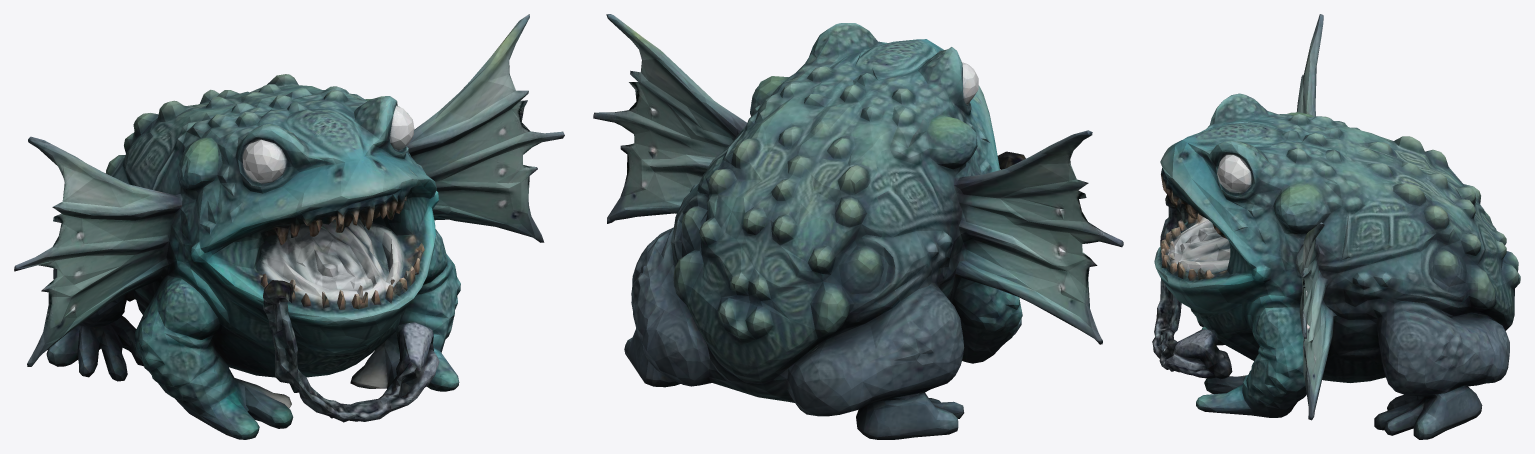
Rendered from mawdeep__maelstromLeviathan.glb.
3 views of the same model, side by side, from view 1: azimuth 30°, elevation 25°; view 2: azimuth 150°, elevation 25°; view 3: azimuth 270°, elevation 25° (orthographic). The views are drawn at different scales.
Parts seen in each view (by area): view 1: world; view 2: world; view 3: world.
Part boxes in pixels (left/top/right/bottom): world: left=14, top=14, right=564, bottom=439; world: left=593, top=14, right=1123, bottom=439; world: left=1152, top=14, right=1520, bottom=439.
Size of the model in its own units: 1 by 0.5232 by 0.6738.
Materials: 1 (1 with a texture image).
